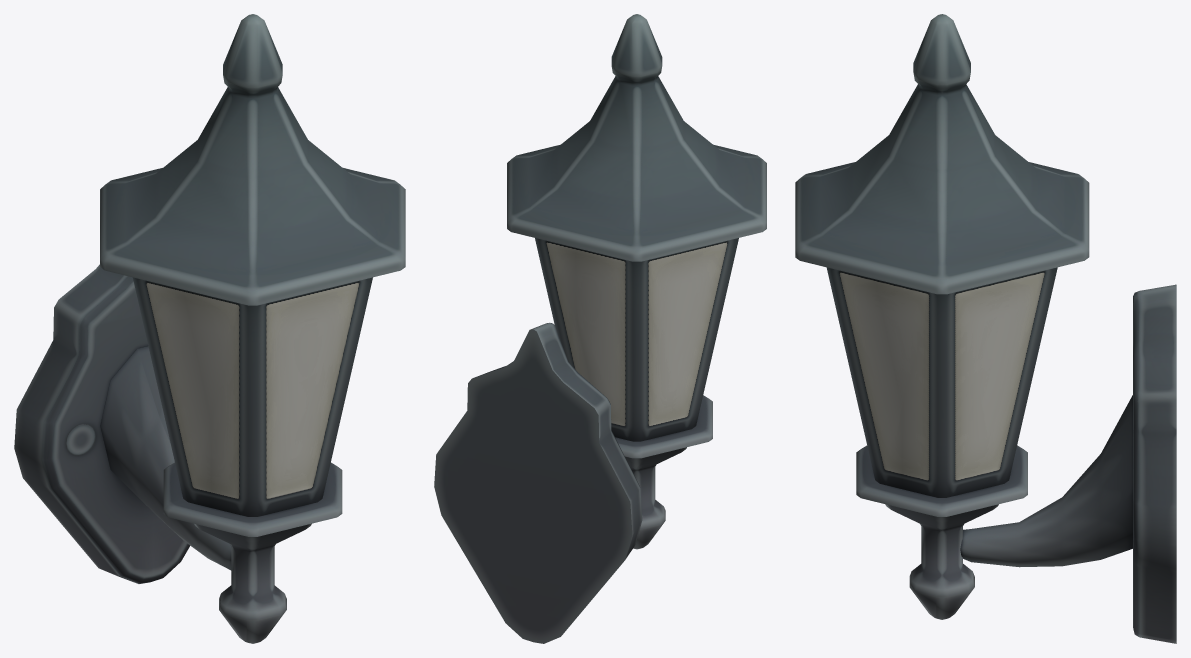
File: StreetLampWall01_1.FBX
3 renders of one model, left to right at view 1: azimuth 30°, elevation 25°; view 2: azimuth 150°, elevation 25°; view 3: azimuth 270°, elevation 25°, orthographic. The views are drawn at different scales.
Visible parts, largest first — view 1: StreetLampWall01_1; view 2: StreetLampWall01_1; view 3: StreetLampWall01_1.
Boxes of the visible parts, x1,y1,x2,y2 form: StreetLampWall01_1: [14, 14, 405, 643]; StreetLampWall01_1: [434, 14, 766, 643]; StreetLampWall01_1: [795, 14, 1176, 643].
Size of what is drawn, in the model's own units: 0.392 by 0.8069 by 0.4478.
